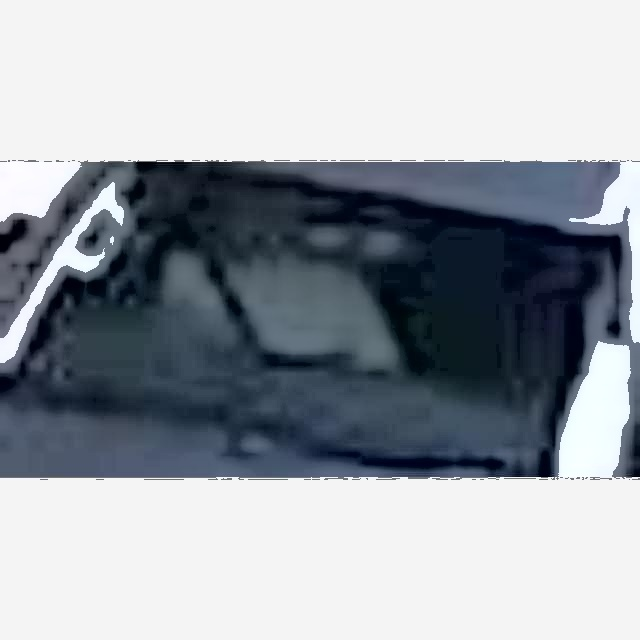pakai: (153, 207, 415, 396)
